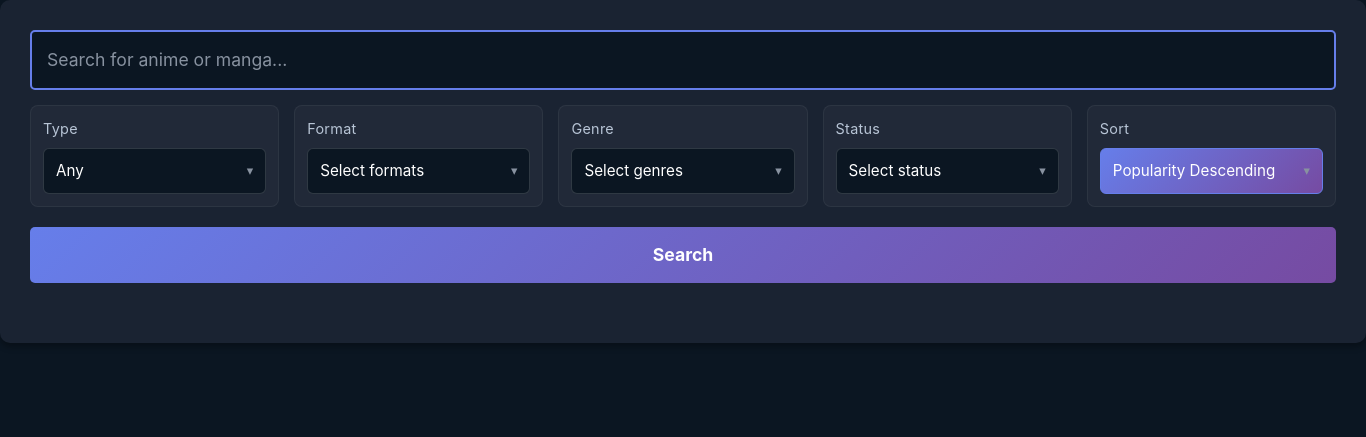
Test: Search Component › Format Filter › toggles format selection
This screenshot has width=1366, height=437.
Click the button with test id "format-filter-button": [419, 171] box [307, 148, 530, 194]
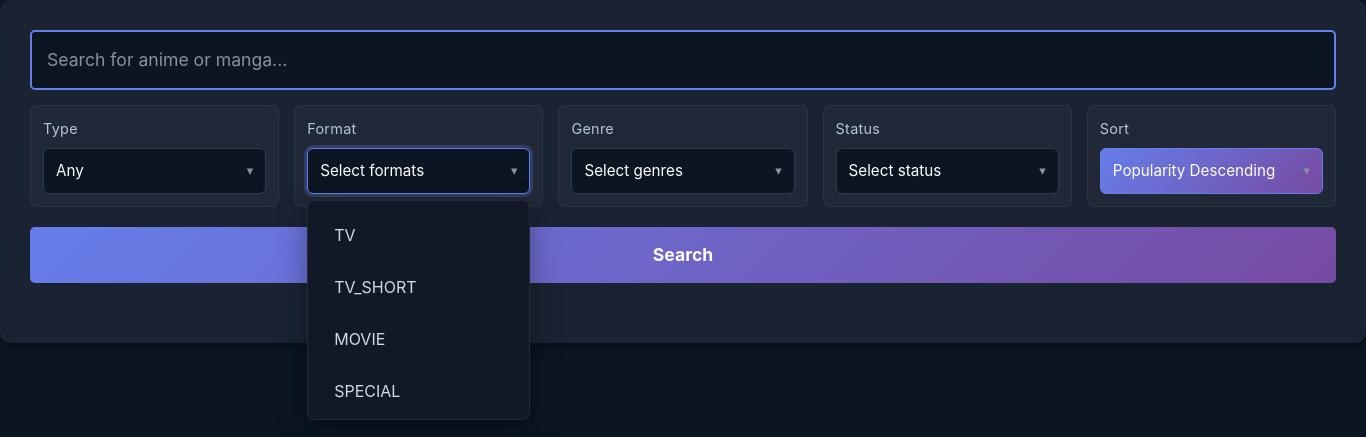
Click the button "TV": [419, 235] box [324, 217, 513, 253]
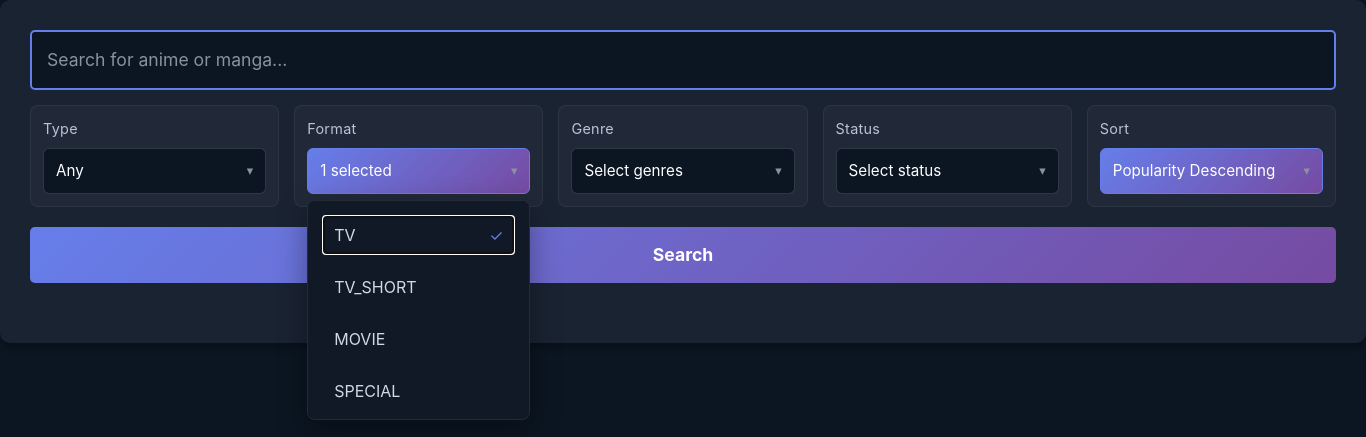
Now the button with test id "format-filter-button" shows "1 selected", box [307, 148, 530, 194]
# click outside to close
Click the element that starts with "Type": [683, 172] box [0, 0, 1365, 343]
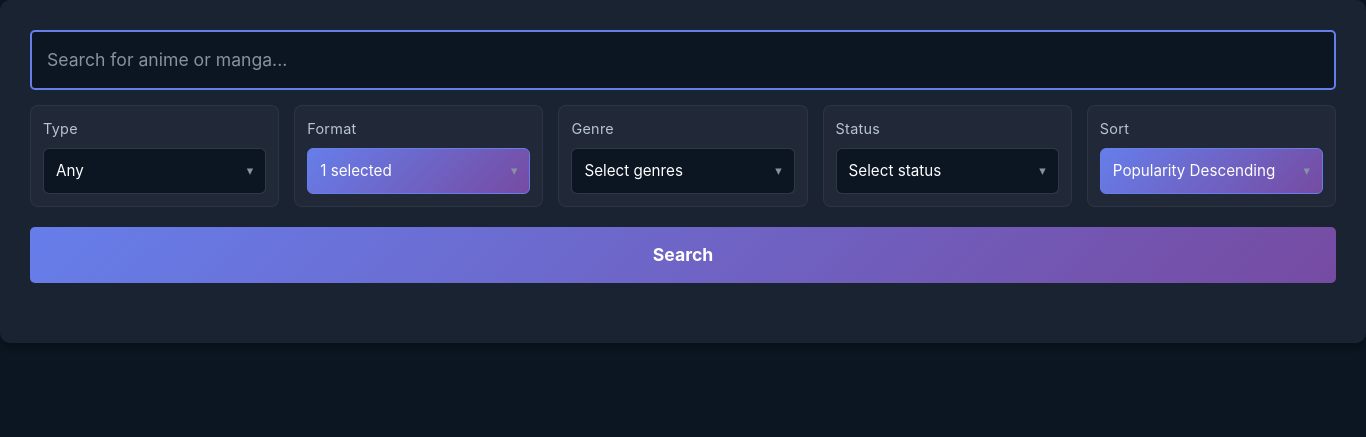
# Re-open dropdown and deselect TV
Click the button with test id "format-filter-button": [419, 171] box [307, 148, 530, 194]
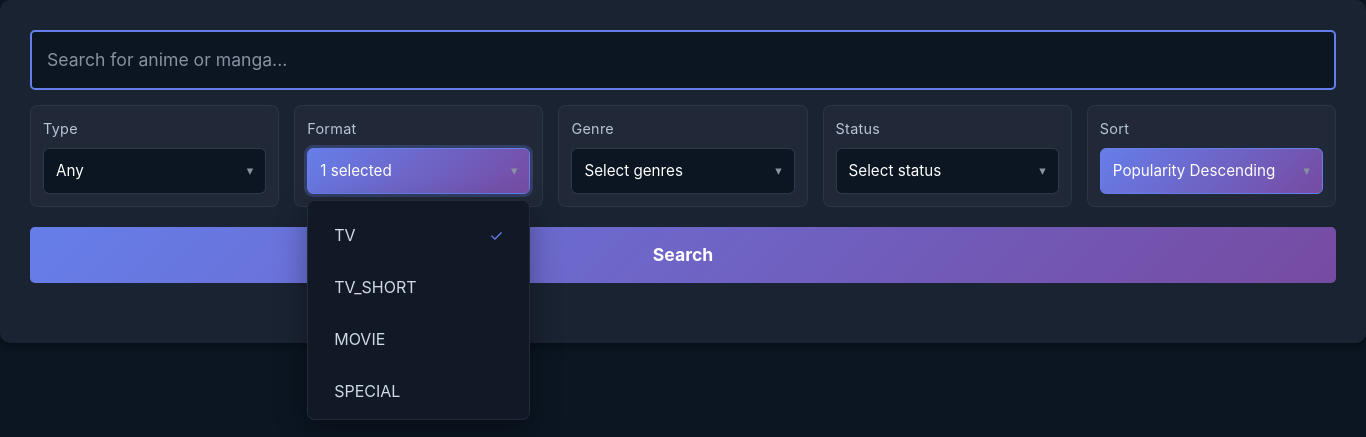
Click the text "TV": [345, 235] box [334, 225, 356, 245]
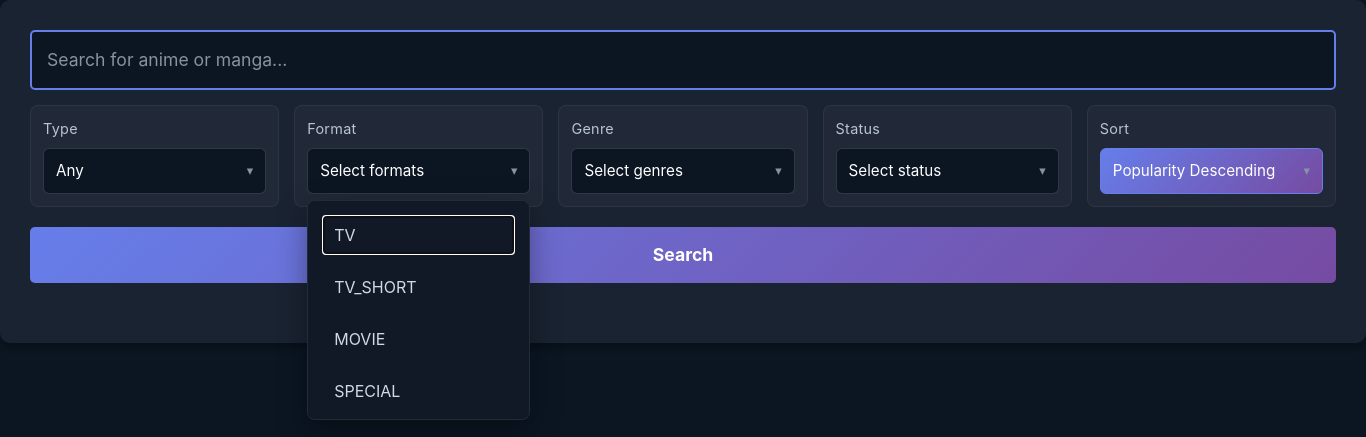
Now the button with test id "format-filter-button" shows "Select formats", box [307, 148, 530, 194]
